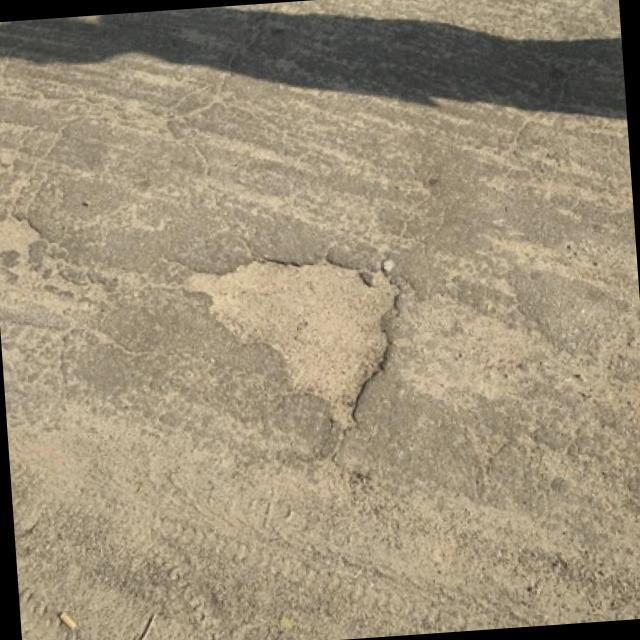Pothole: (185, 262, 394, 428)
